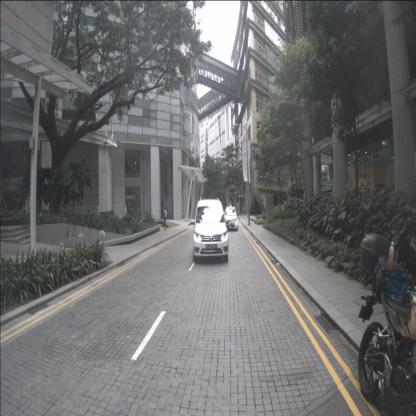human-pedestrian-adult: (163, 208, 169, 231), (130, 206, 134, 221), (125, 205, 127, 221), (244, 206, 245, 214)
vehicle-car: (192, 199, 228, 263), (224, 208, 238, 231)
vehicle-motorcycle: (358, 232, 416, 416)
